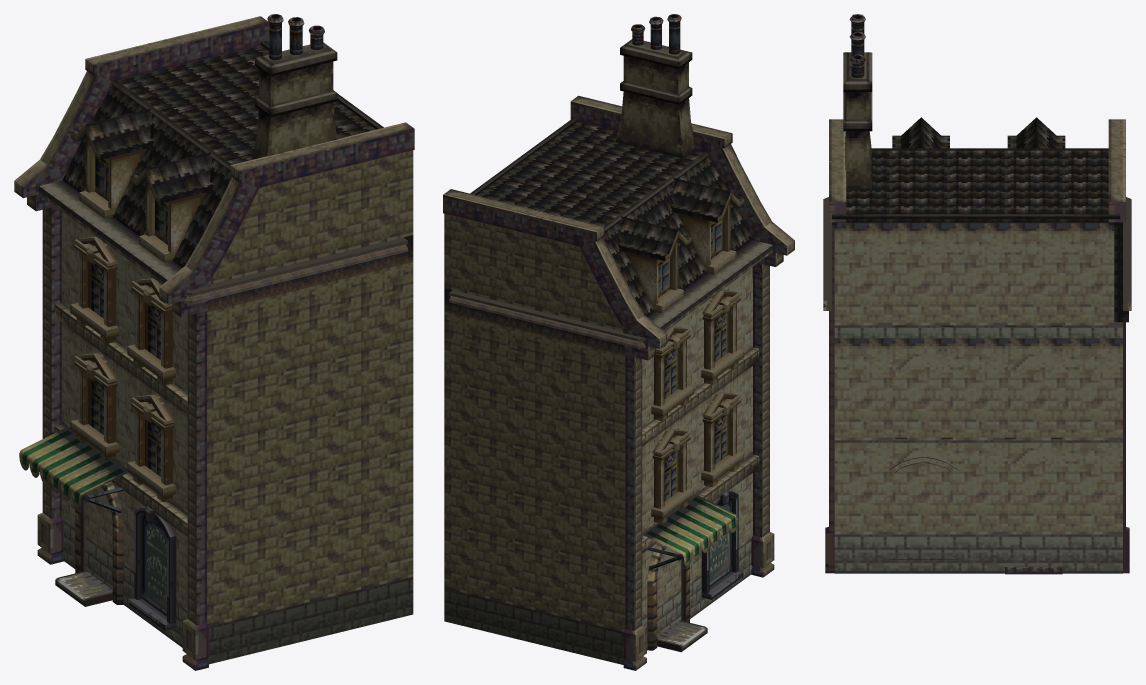
Rendered from EnvBdgMD_City_B_Outdoor_L_C.FBX.
3 views of the same model, side by side, from view 1: azimuth 30°, elevation 25°; view 2: azimuth 150°, elevation 25°; view 3: azimuth 270°, elevation 25° (orthographic). The views are drawn at different scales.
Visible parts, largest first — view 1: EnvBdgMD_City_B_Outdoor_L_C; view 2: EnvBdgMD_City_B_Outdoor_L_C; view 3: EnvBdgMD_City_B_Outdoor_L_C.
Part boxes in pixels (x1,y1,x2,y2): EnvBdgMD_City_B_Outdoor_L_C: (14, 14, 414, 670); EnvBdgMD_City_B_Outdoor_L_C: (443, 14, 794, 670); EnvBdgMD_City_B_Outdoor_L_C: (823, 14, 1131, 574).
Size of the model in its own units: 498 by 1140 by 535.
Materials: 1 (1 with a texture image).
